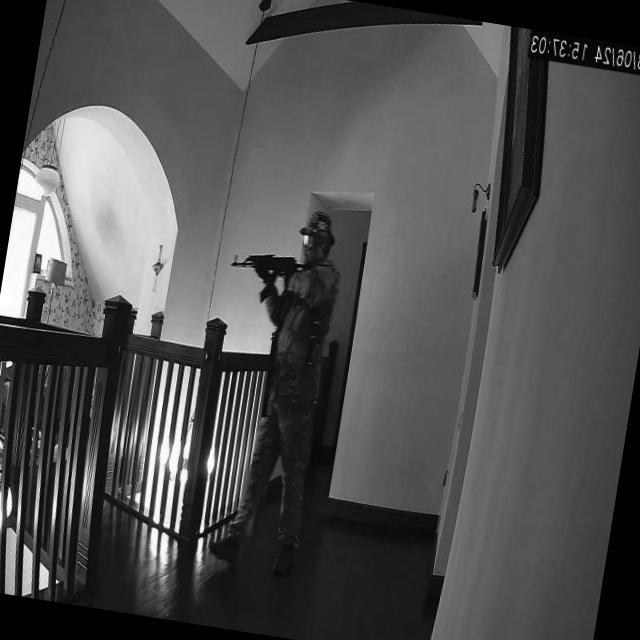gun: (226, 242, 318, 291)
person with a gun: (181, 193, 352, 581)
